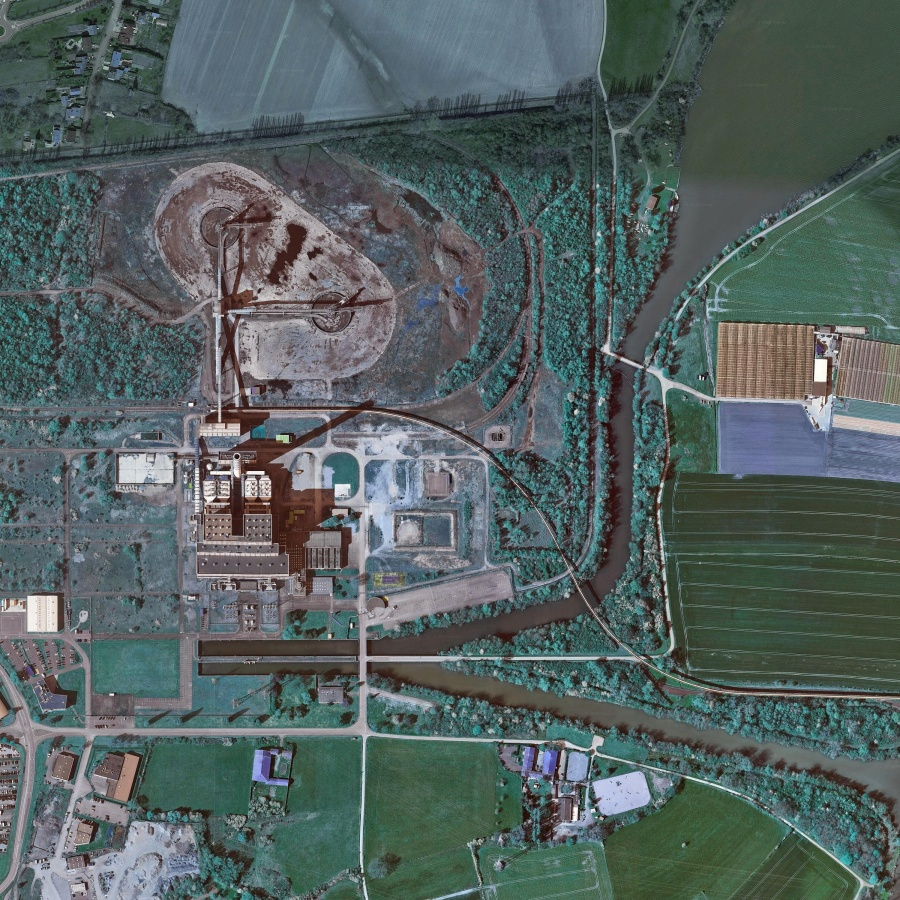PowerPlant: (122, 162, 395, 588)
